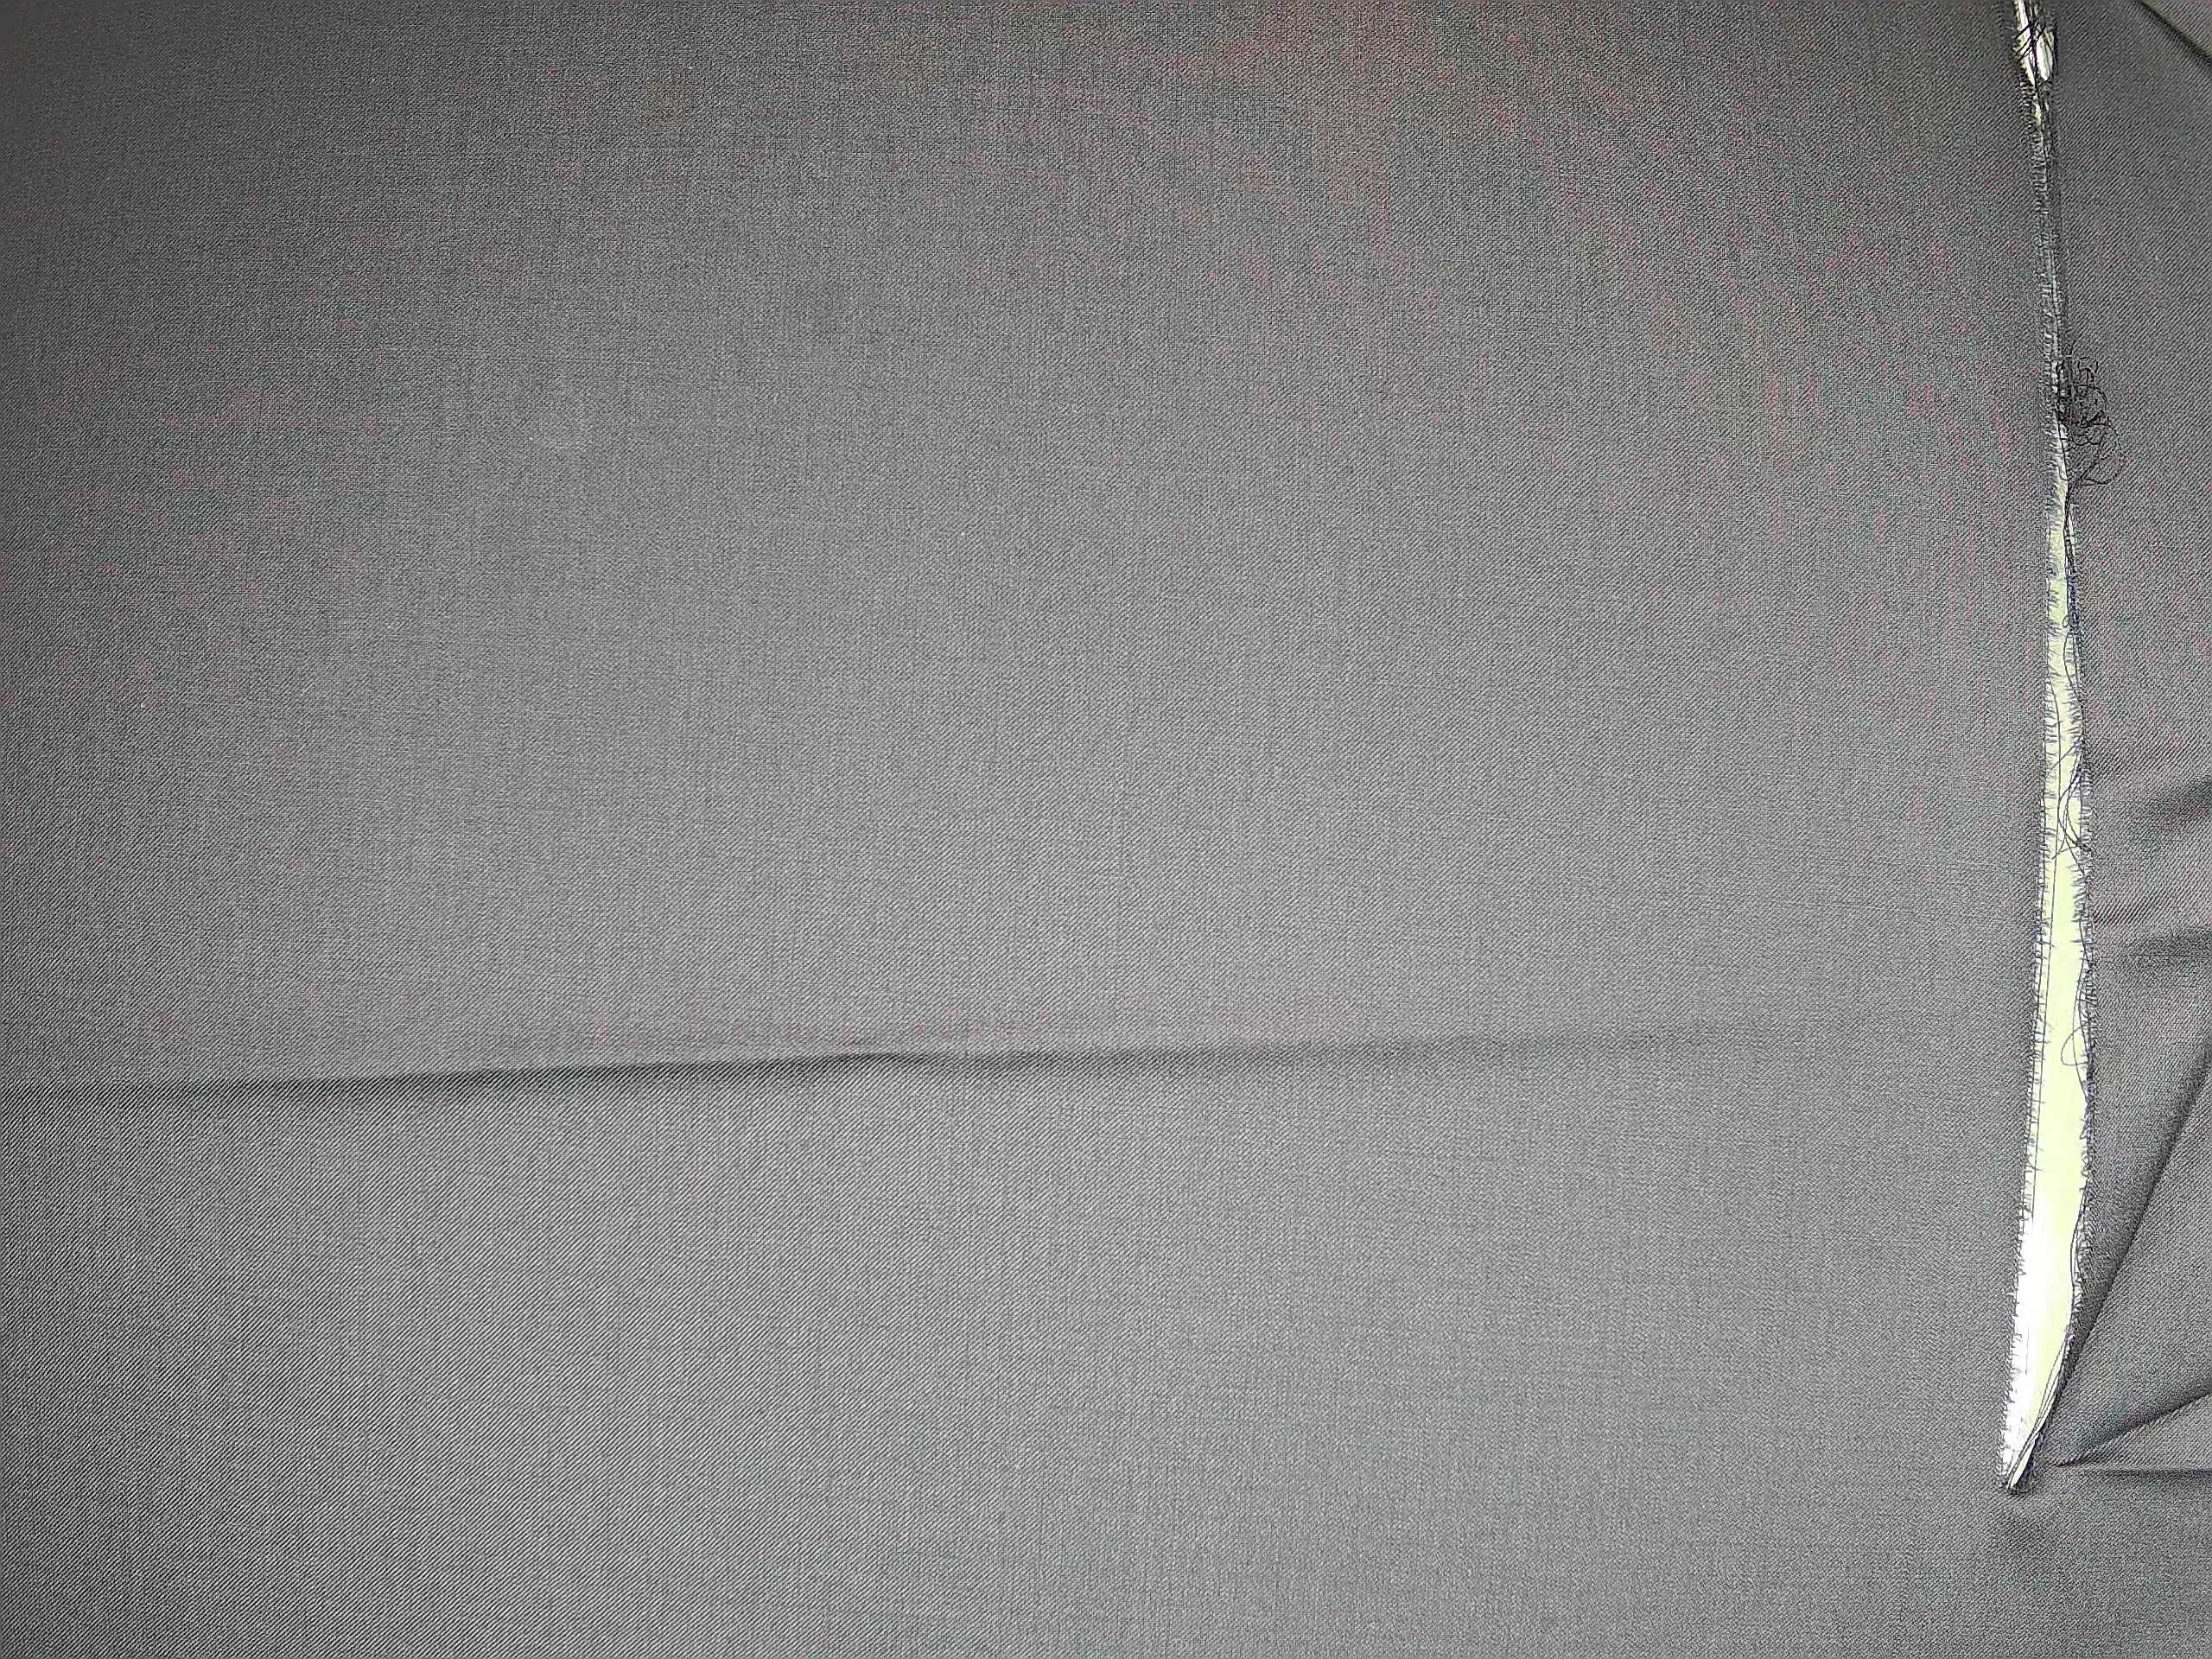puncture-hole: (1977, 9, 2135, 1544)
